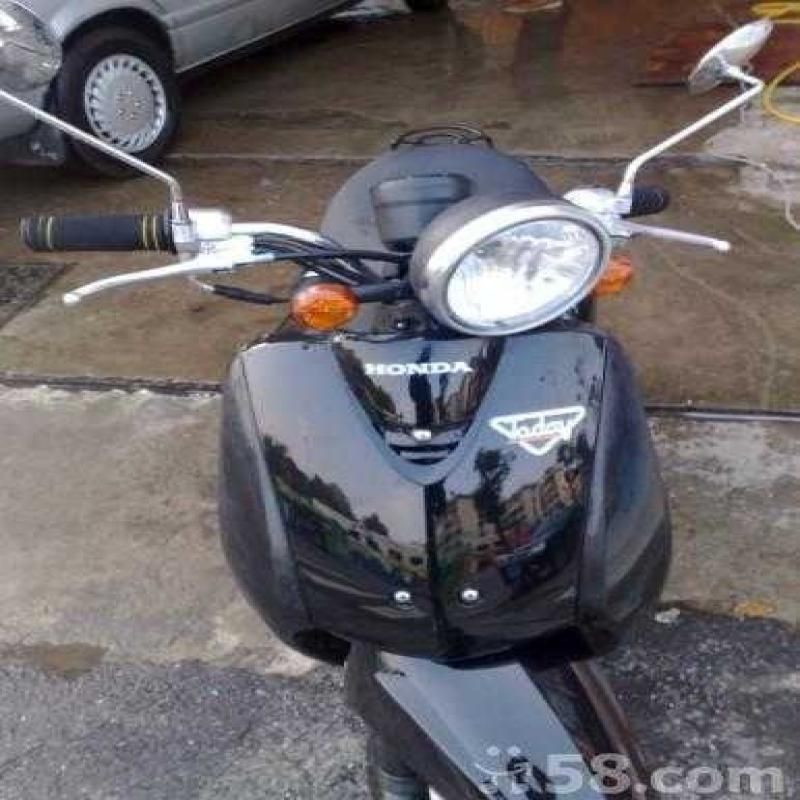bike: (109, 83, 730, 800)
